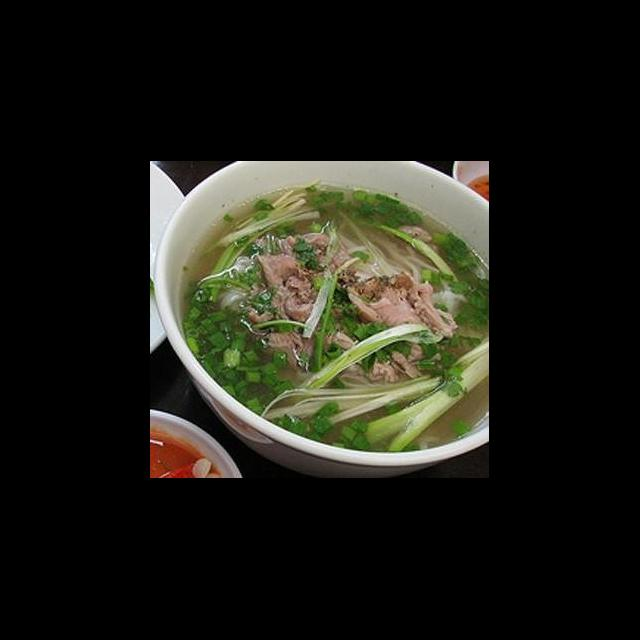thit bo: (238, 228, 348, 336), (318, 266, 460, 346), (255, 326, 358, 378), (358, 342, 449, 390)
